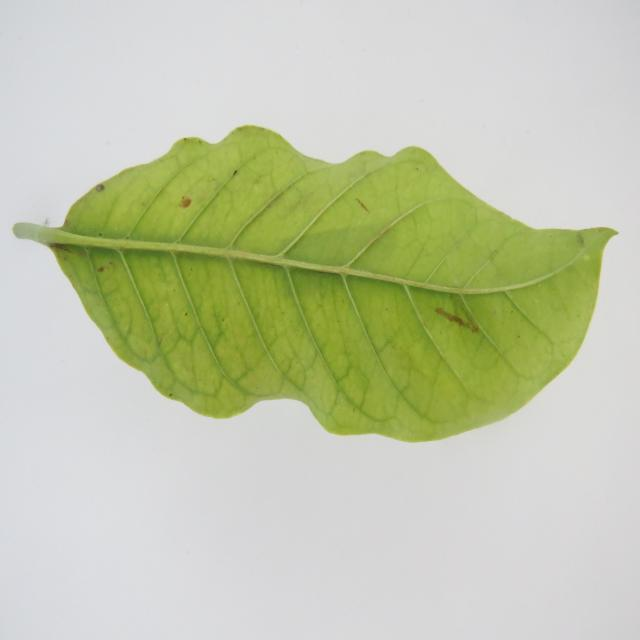DeficienciaNutricional-Calcio: (14, 127, 615, 442)
